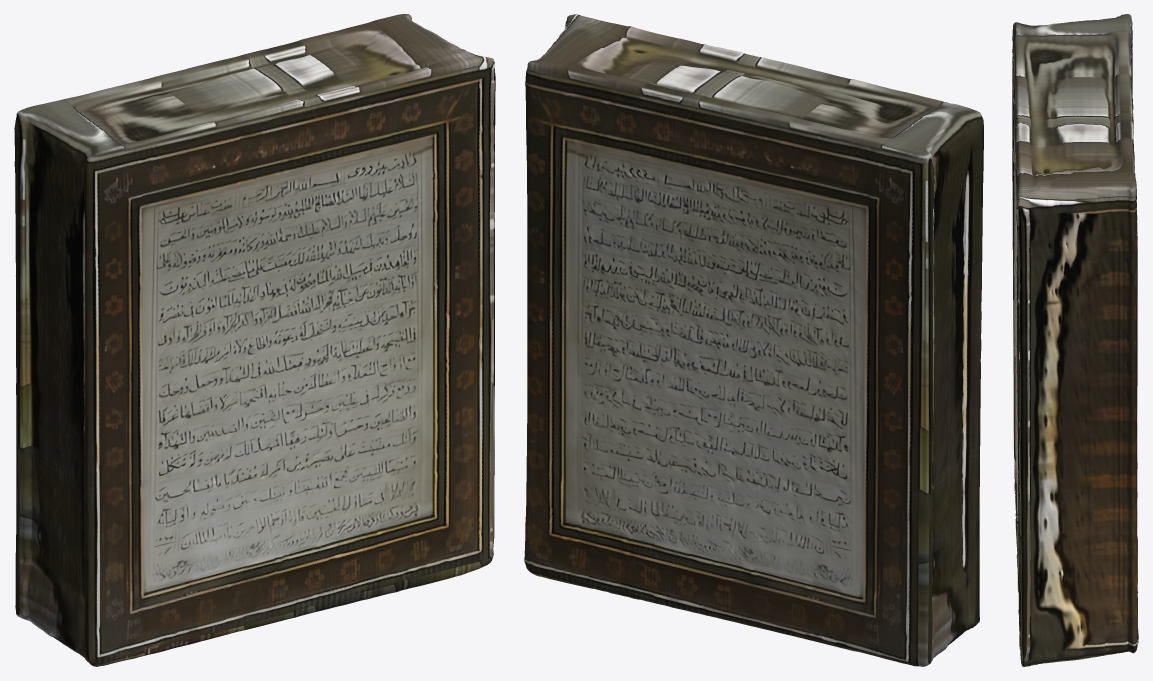
Rendered from kfl-2187.glb.
3 renders of one model, left to right at view 1: azimuth 30°, elevation 25°; view 2: azimuth 150°, elevation 25°; view 3: azimuth 270°, elevation 25°, orthographic. The views are drawn at different scales.
Visible parts, largest first — view 1: kfl-2187; view 2: kfl-2187; view 3: kfl-2187.
Boxes of the visible parts, box(x1,y1,x2,y2) form: kfl-2187: box(14, 14, 495, 666); kfl-2187: box(524, 14, 983, 666); kfl-2187: box(1012, 14, 1138, 666).
Size of the model in its own units: 0.8517 by 0.9989 by 0.2406.
1 material, 1 textured.
